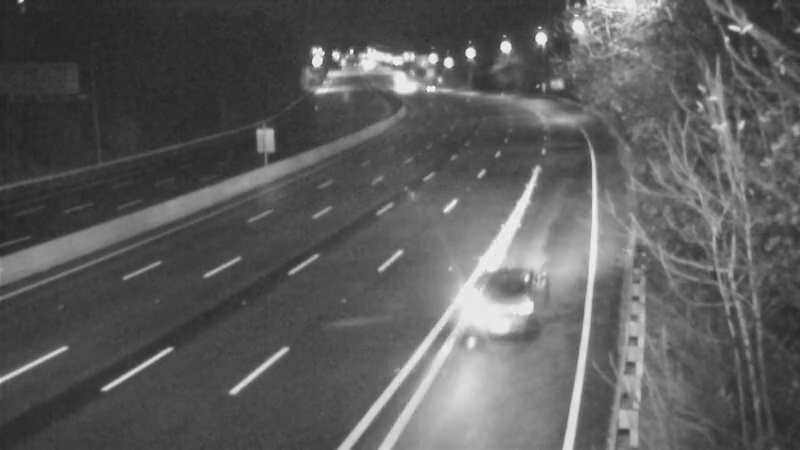vehicle: (467, 251, 547, 331), (403, 61, 453, 111)
